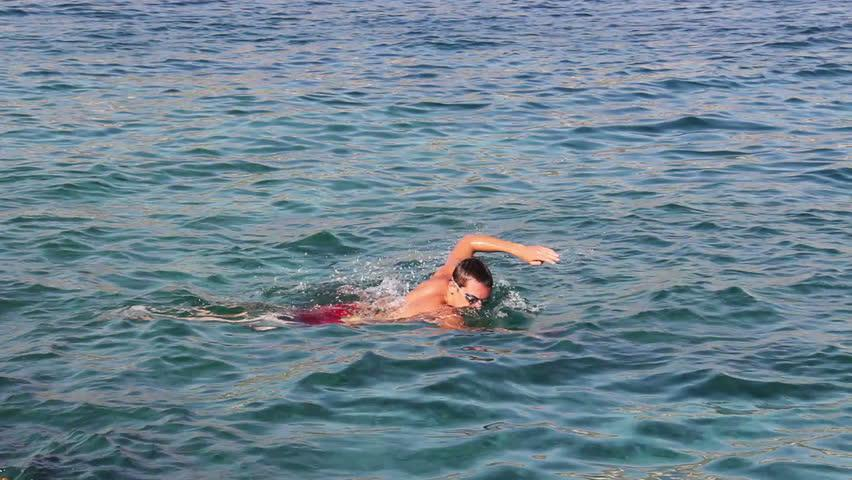swimmer: (266, 234, 562, 330)
